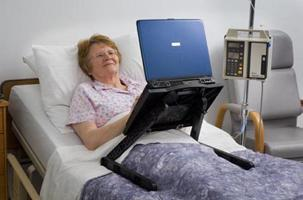person: (67, 34, 152, 150)
